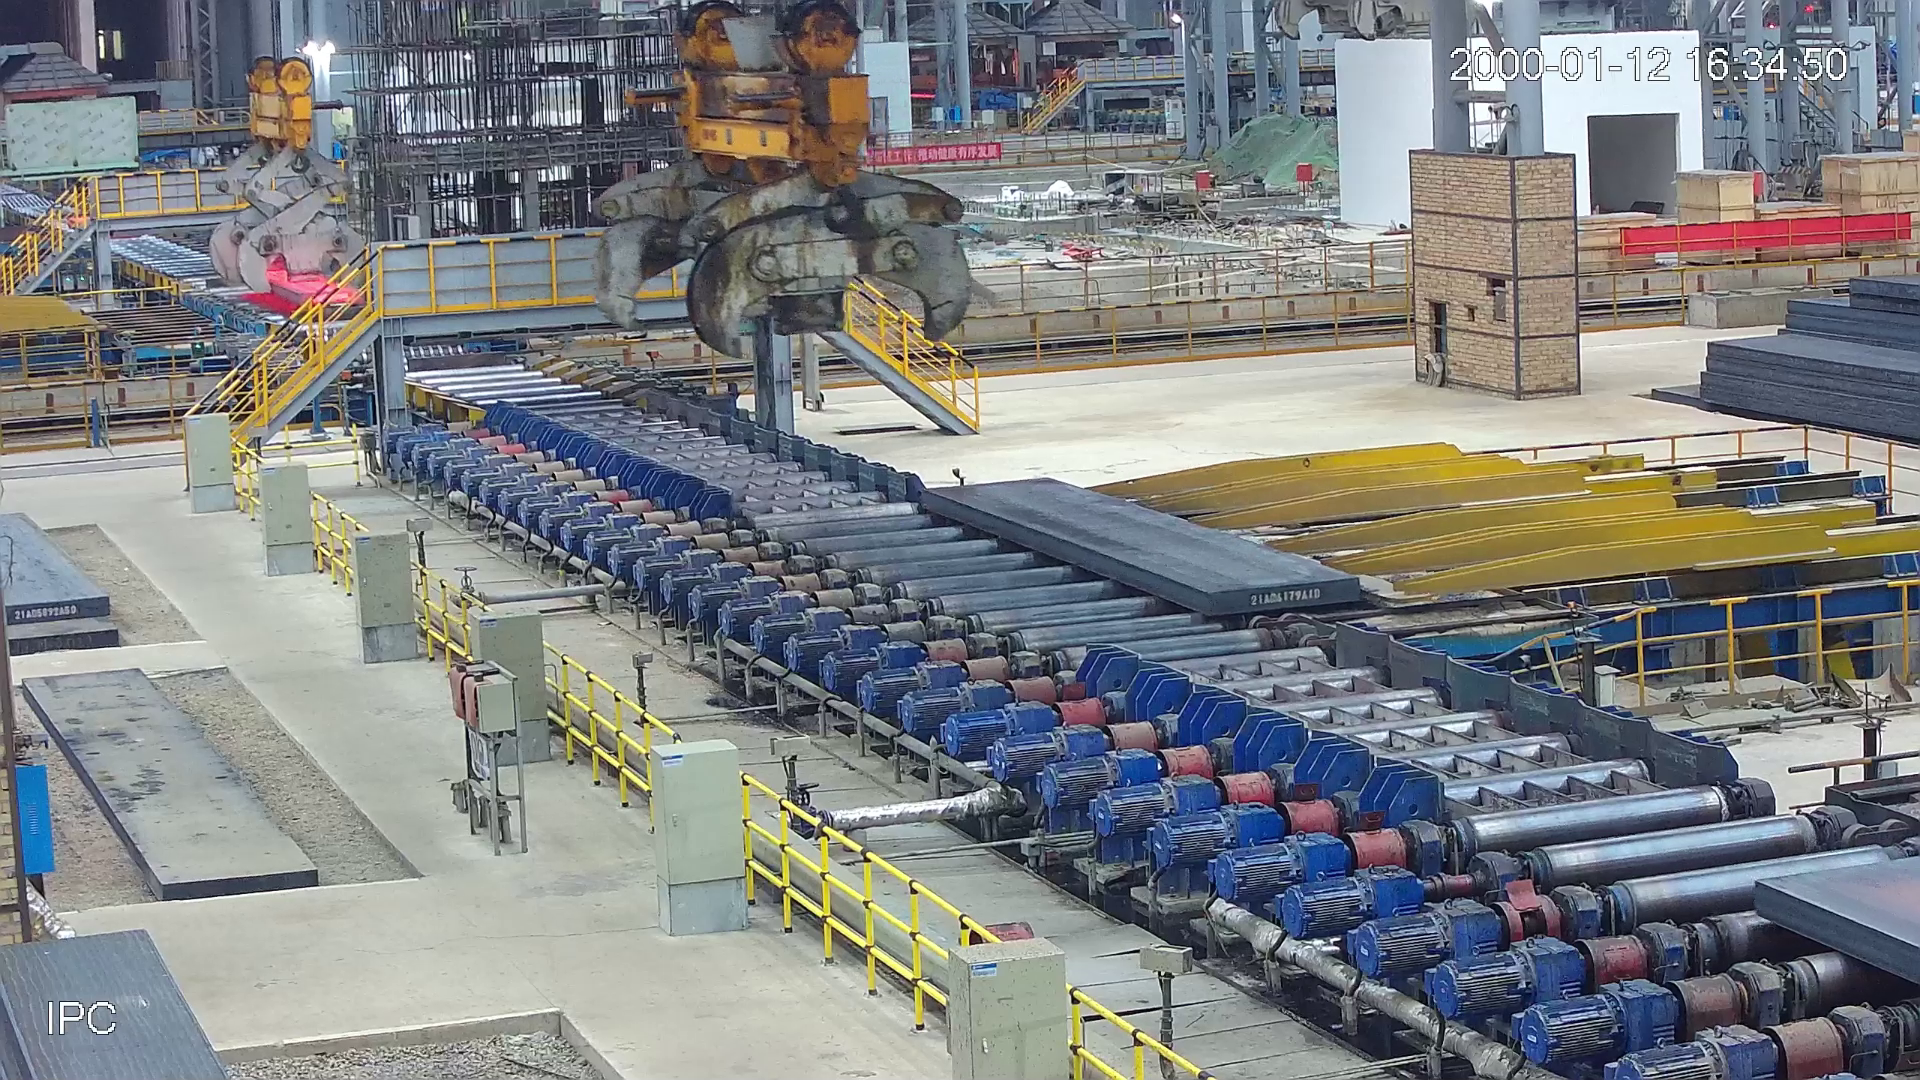crane: (588, 1, 971, 352)
craneandslab: (207, 51, 371, 315)
slab: (914, 479, 1361, 618), (1756, 847, 1920, 978)
